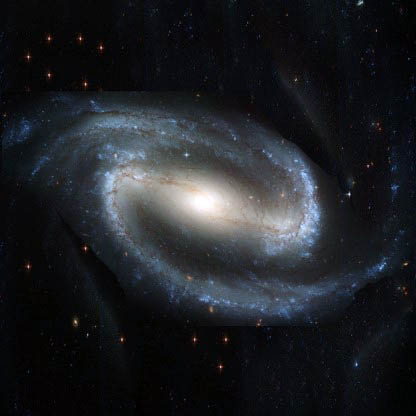NGC 1300: (16, 92, 400, 324)
